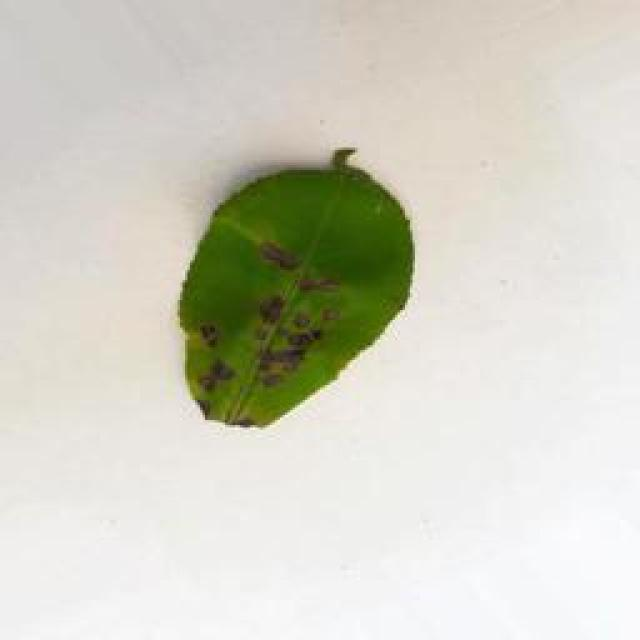Helopeltis: (174, 144, 425, 445)
